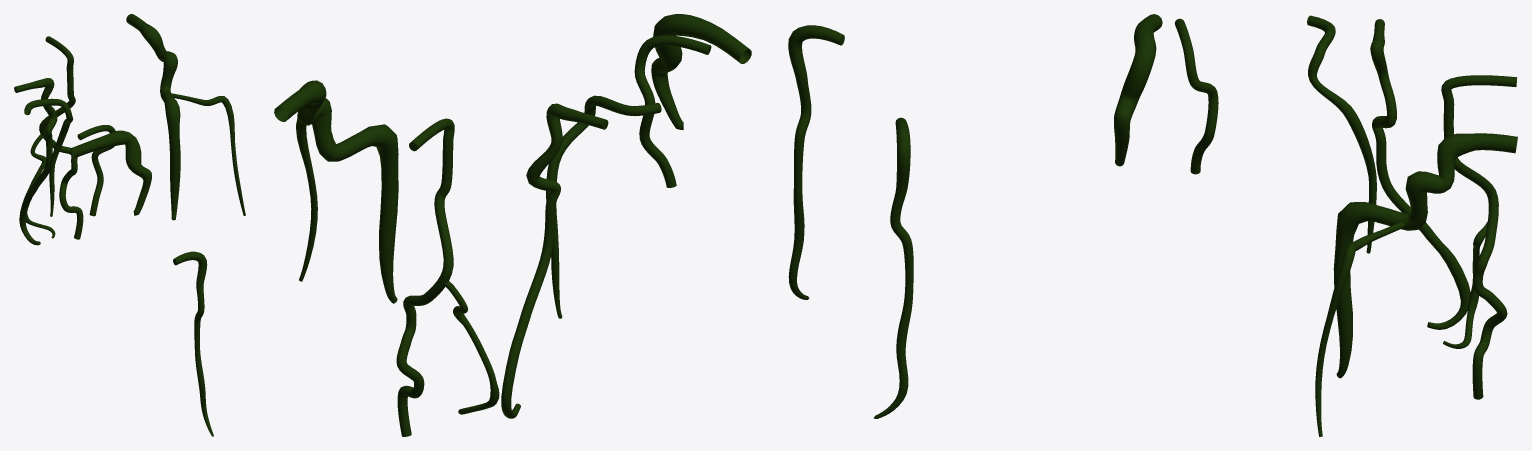
Rendered from Temple_VineClump_TopRight.FBX.
The picture shows the model from 3 angles, left to right: view 1: azimuth 30°, elevation 25°; view 2: azimuth 150°, elevation 25°; view 3: azimuth 270°, elevation 25°; orthographic projection. The views are drawn at different scales.
Visible parts, largest first — view 1: DetachedObject009; view 2: DetachedObject009; view 3: DetachedObject009.
Boxes of the visible parts, bbox=[...] form: DetachedObject009: bbox=[14, 14, 245, 436]; DetachedObject009: bbox=[274, 14, 844, 436]; DetachedObject009: bbox=[873, 14, 1517, 436].
Bounding box in the file's own units: 12.19 × 12.46 × 19.18.
